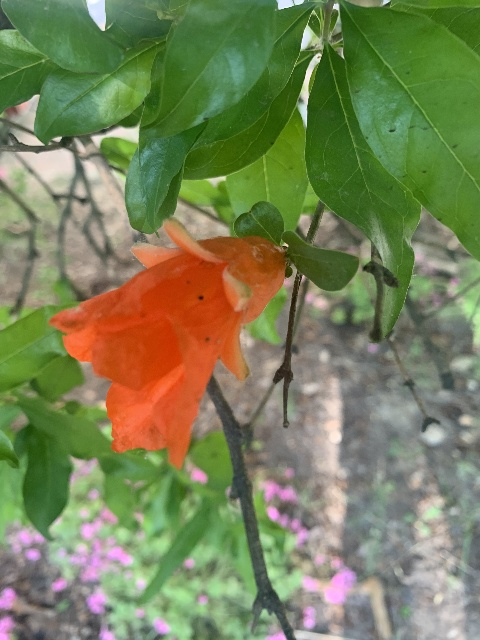flower: (47, 220, 285, 469)
